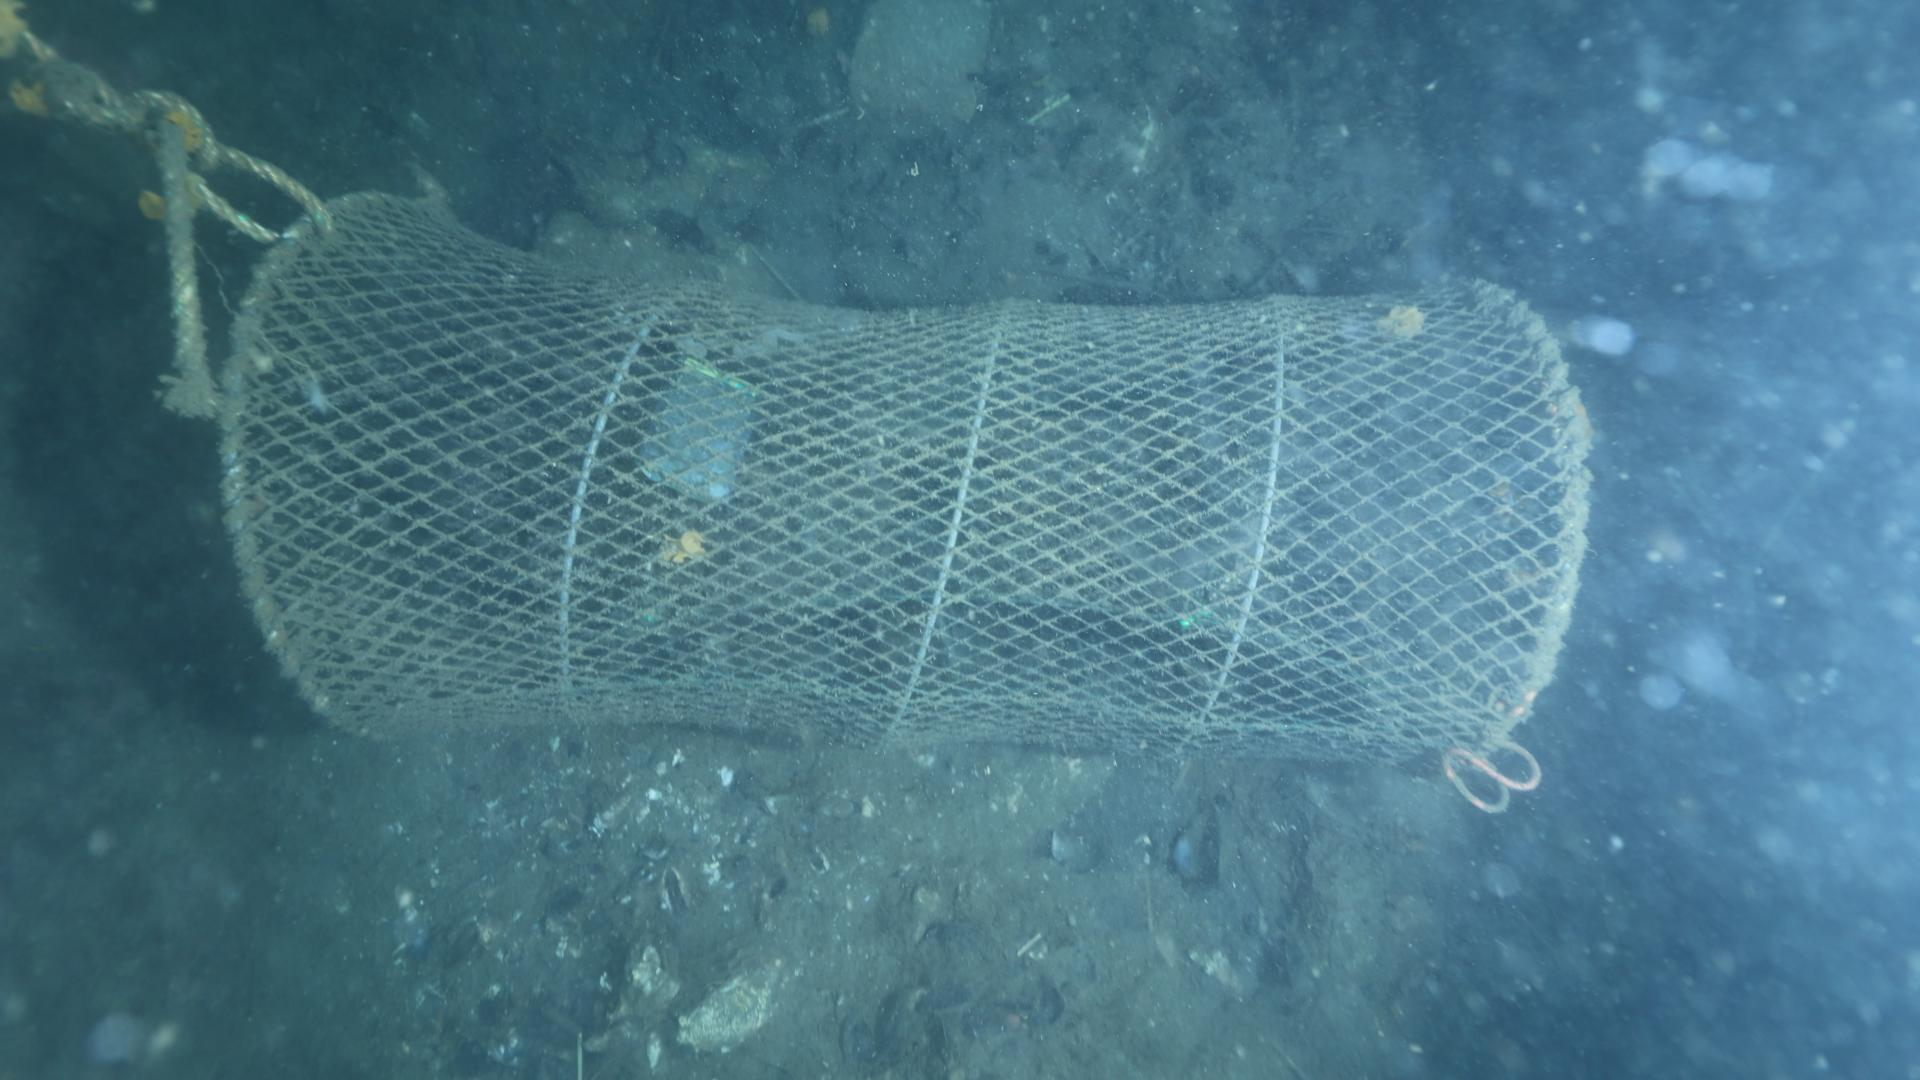bundle of ropes: (0, 0, 342, 419)
spring fish trap: (211, 190, 1596, 775)
